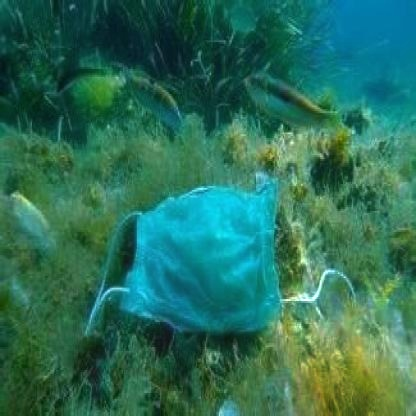Mask: (84, 171, 364, 339)
